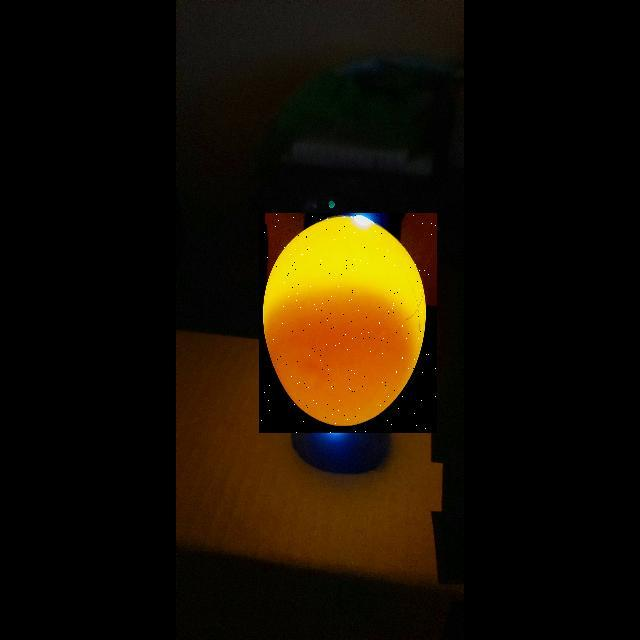Fertile: (259, 213, 437, 433)
